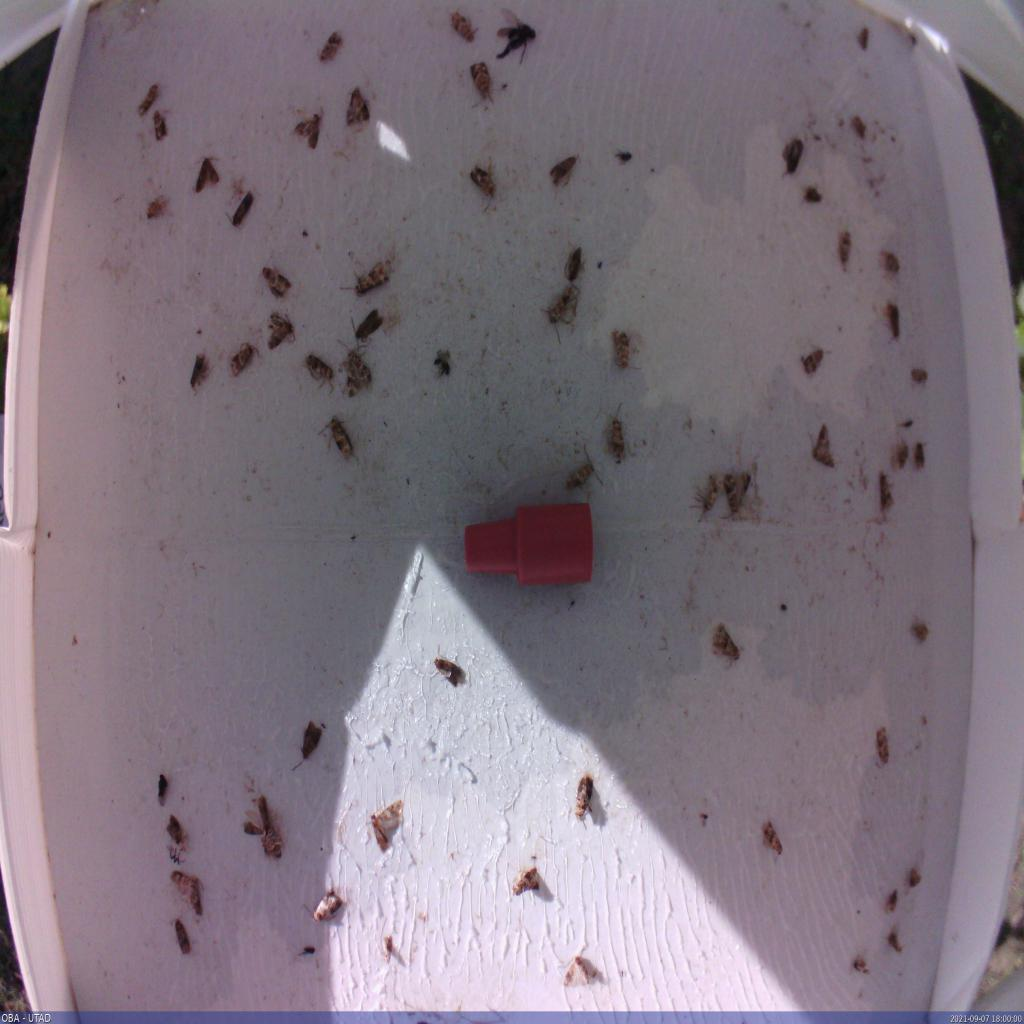grape_moth: (240, 796, 286, 864), (359, 799, 403, 857), (538, 285, 580, 344), (334, 338, 372, 401), (564, 445, 605, 495), (464, 60, 502, 112), (340, 262, 390, 300), (169, 866, 204, 920), (317, 415, 356, 462), (300, 887, 346, 925), (720, 470, 753, 522), (688, 474, 722, 524), (560, 942, 594, 990), (259, 249, 291, 299), (602, 404, 628, 465), (610, 328, 643, 374), (469, 162, 497, 214), (228, 340, 264, 380), (302, 352, 335, 395), (572, 772, 596, 831), (806, 421, 835, 469), (712, 620, 742, 666), (292, 106, 322, 152), (266, 311, 298, 352), (506, 866, 544, 900), (345, 86, 373, 128), (448, 8, 478, 42), (188, 352, 212, 394), (760, 818, 786, 856), (316, 30, 344, 64), (168, 918, 190, 960), (834, 227, 852, 276), (136, 81, 160, 117), (798, 348, 826, 378), (877, 468, 896, 511), (874, 724, 892, 767), (144, 194, 168, 221), (150, 104, 167, 141), (802, 184, 824, 206), (885, 884, 901, 914), (886, 926, 903, 954), (852, 954, 870, 978), (908, 868, 922, 890)
